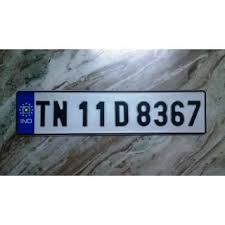inlp: (6, 76, 217, 143)
